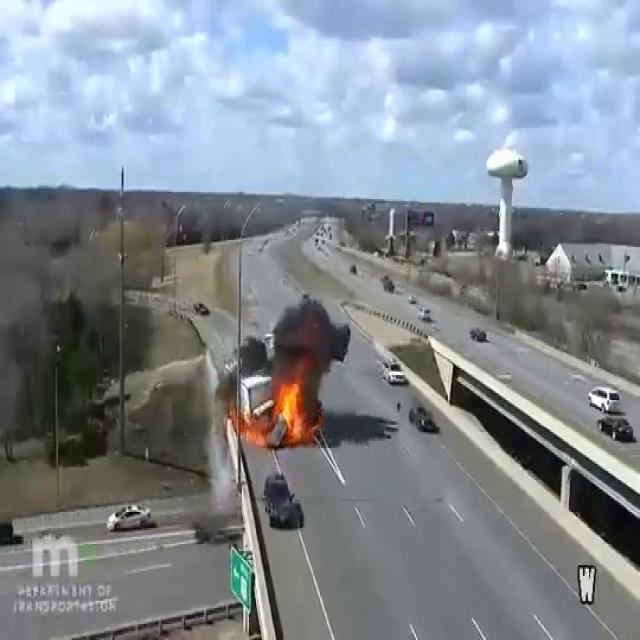Fire: (268, 368, 309, 444)
Smoke: (0, 132, 78, 460), (266, 276, 350, 384)
